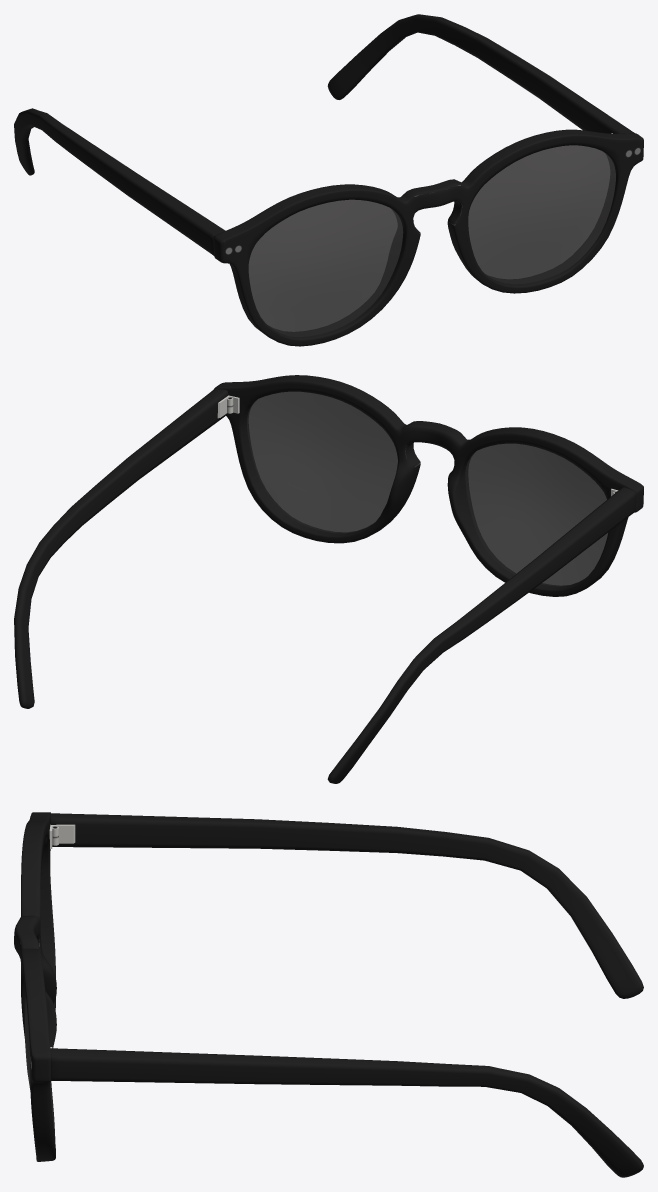
File: inesta-stylish.glb
3 views of the same model, one above another, from view 1: azimuth 30°, elevation 25°; view 2: azimuth 150°, elevation 25°; view 3: azimuth 270°, elevation 25° (orthographic). The views are drawn at different scales.
Parts seen in each view (by area): view 1: Glass_06; view 2: Glass_06; view 3: Glass_06.
Part boxes in pixels (left/top/right/bottom): Glass_06: left=14, top=14, right=643, bottom=346; Glass_06: left=14, top=375, right=643, bottom=783; Glass_06: left=14, top=812, right=643, bottom=1177.
Bounding box in the file's own units: 0.1516 × 0.0532 × 0.1643.
1 material, 1 textured.
